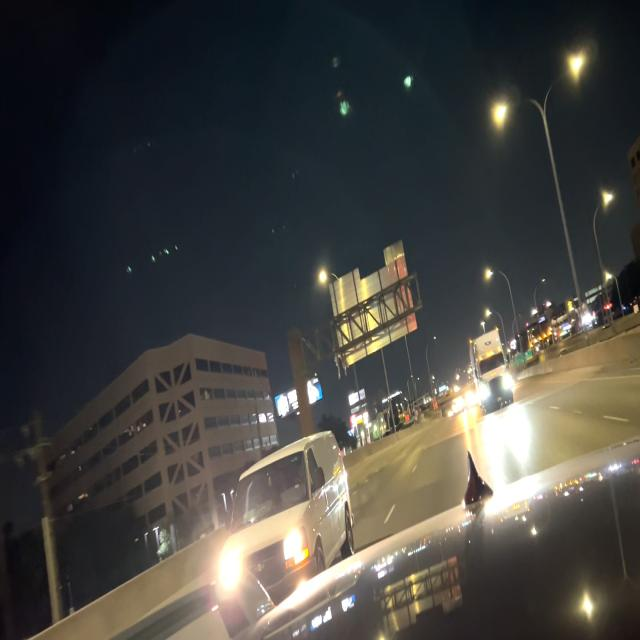back-of-sign: (328, 241, 418, 368)
